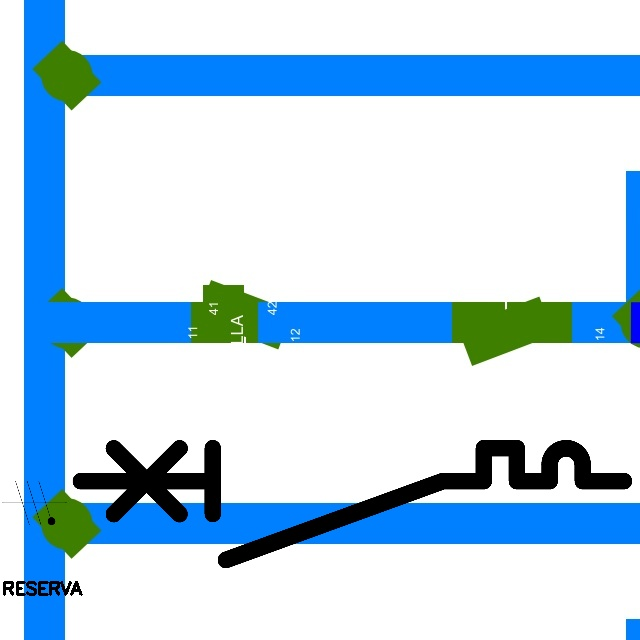interruptor_termomagnetico: (66, 434, 638, 574)
